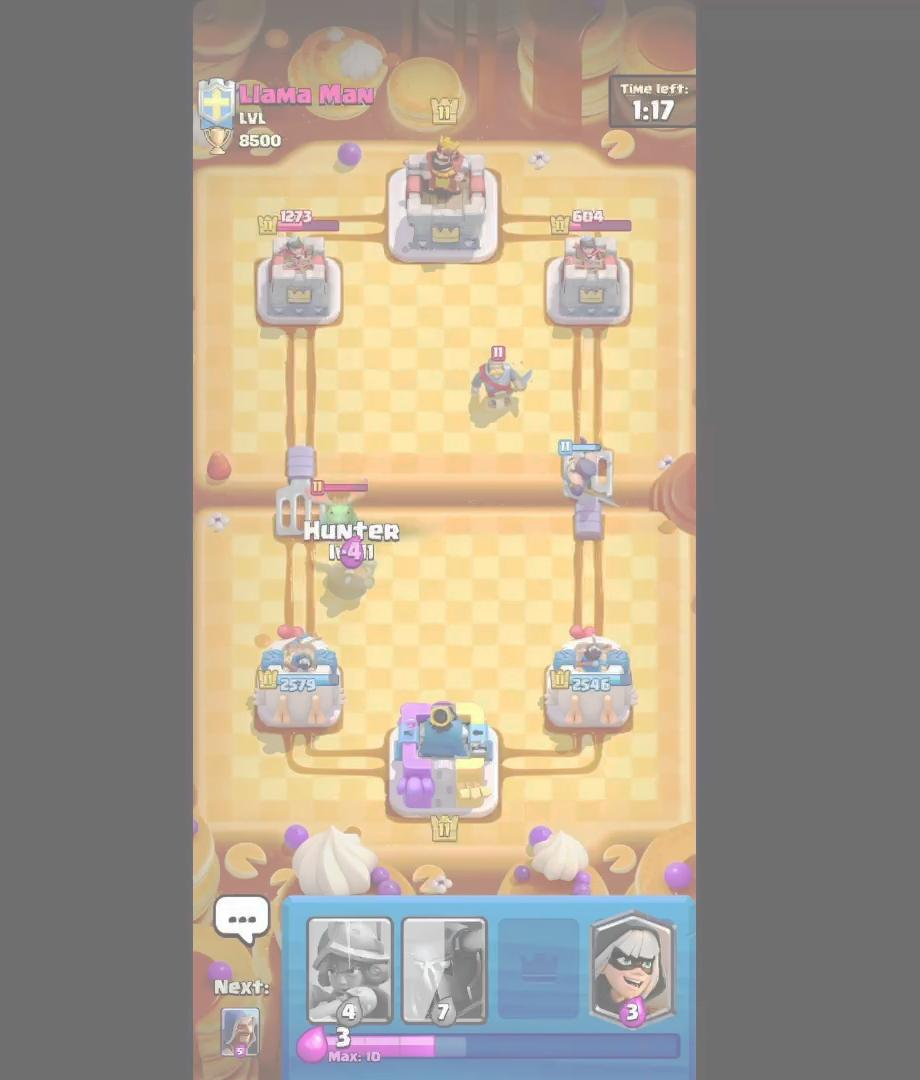Baby Dragon: (301, 475, 380, 536)
Knight: (466, 343, 538, 414)
